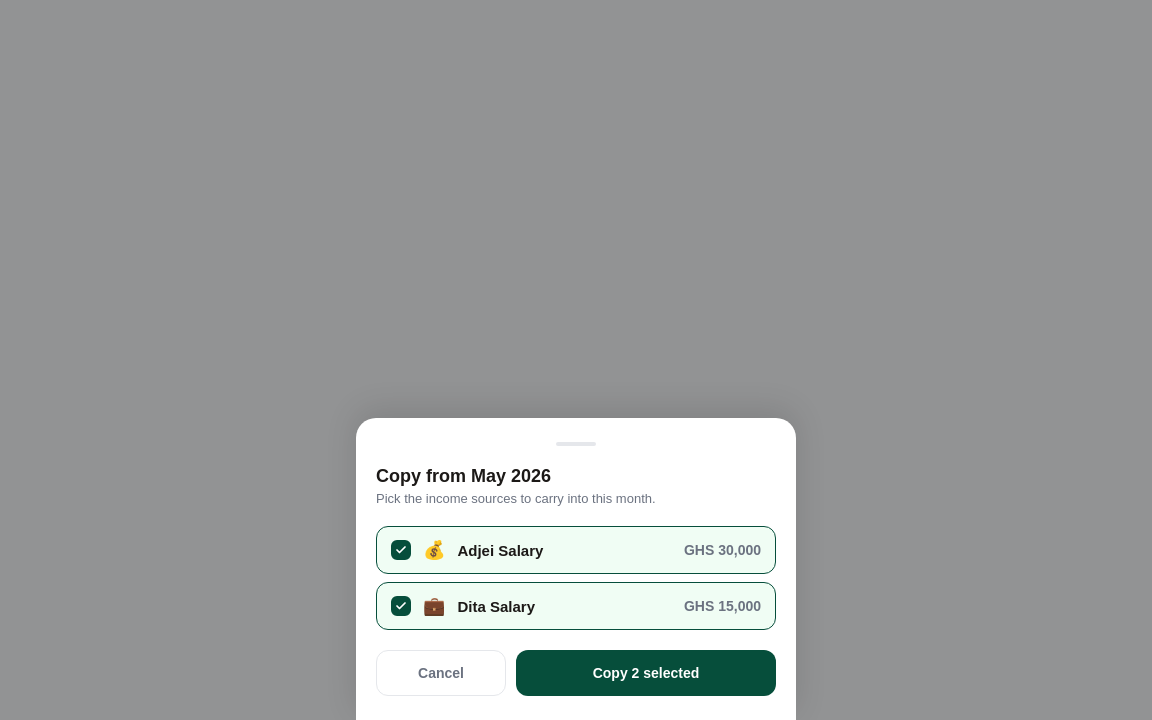
Test case: CopyIncomeSheet › disables the copy button and prompts when nothing is selected
This screenshot has width=1152, height=720.
Click the button with test id "copy-source-inc-1".
click(500, 550)  # box [376,526,776,574]
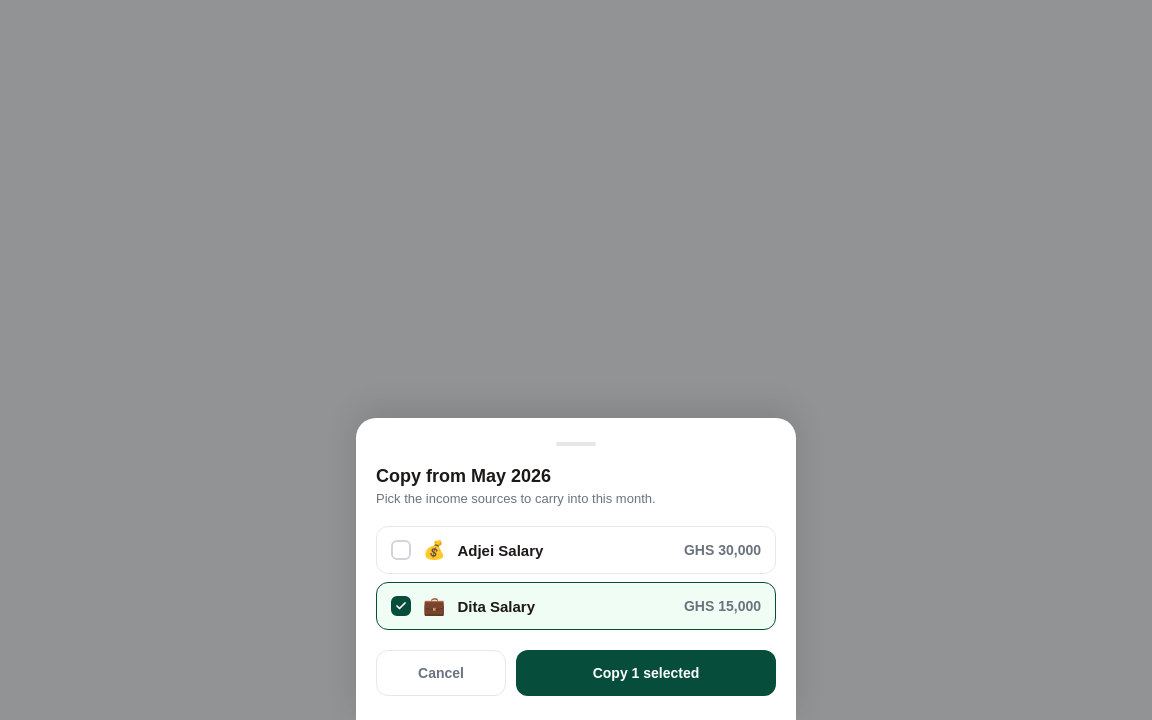
Click the button with test id "copy-source-inc-2".
click(496, 606)  # box [376,582,776,630]
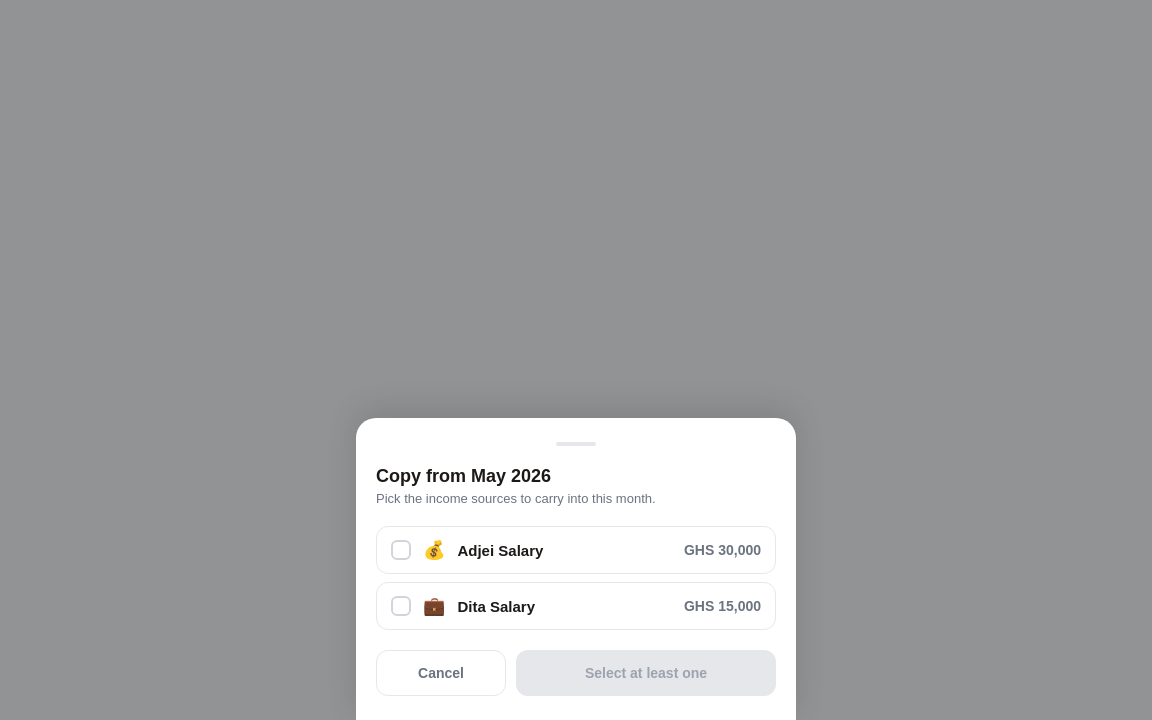
Check: the button with test id "copy-selected-btn" reads "Select at least one", box [516,650,776,696]
Check: the button with test id "copy-selected-btn" is disabled, box [516,650,776,696]
